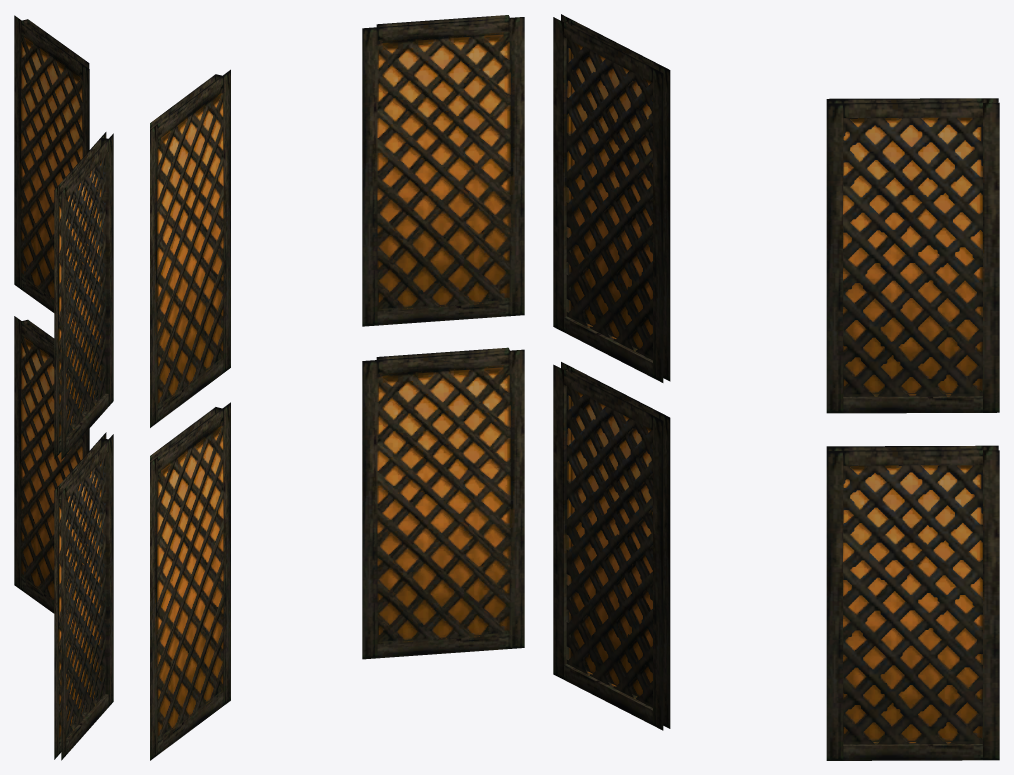
The model's file is LAKETOWN_EXTERIOR_PS_LT_WINDOW_LONG_LOD1_83.fbx.
3 renders of one model, left to right at view 1: azimuth 30°, elevation 25°; view 2: azimuth 150°, elevation 25°; view 3: azimuth 270°, elevation 25°, orthographic. The views are drawn at different scales.
Parts seen in each view (by area): view 1: LAKETOWN_EXTERIOR_PS_LT_WINDOW_LONG_LOD1_83; view 2: LAKETOWN_EXTERIOR_PS_LT_WINDOW_LONG_LOD1_83; view 3: LAKETOWN_EXTERIOR_PS_LT_WINDOW_LONG_LOD1_83.
Part boxes in pixels (bbox=[...]): LAKETOWN_EXTERIOR_PS_LT_WINDOW_LONG_LOD1_83: bbox=[14, 15, 113, 760]; LAKETOWN_EXTERIOR_PS_LT_WINDOW_LONG_LOD1_83: bbox=[150, 15, 524, 760]; LAKETOWN_EXTERIOR_PS_LT_WINDOW_LONG_LOD1_83: bbox=[553, 14, 999, 760].
Bounding box in the file's own units: 9056 × 31412 × 19273.
2 materials, 2 textured.
